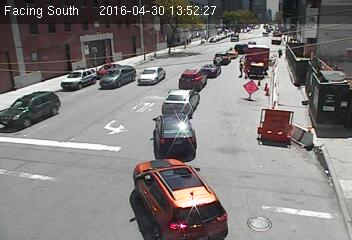neg: (178, 66, 199, 94), (204, 144, 224, 171), (126, 103, 141, 124)
pos: (233, 58, 247, 76), (277, 47, 283, 55)
